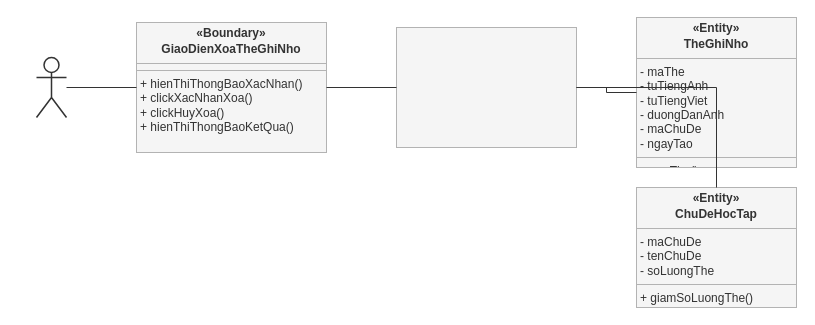
Some shapes in this 815 by 325 pixel diagram are drawn without their labels. The shapes that lost their labels are listed below. From the top down, each one's centre as x and y in pixels, then its label:
[51,87]: Quản trị viên
[486,87]: «Control» HeThong + yeuCauXoaThe() + xoaTheTuCSDL() + capNhatDanhSachHienThi()
